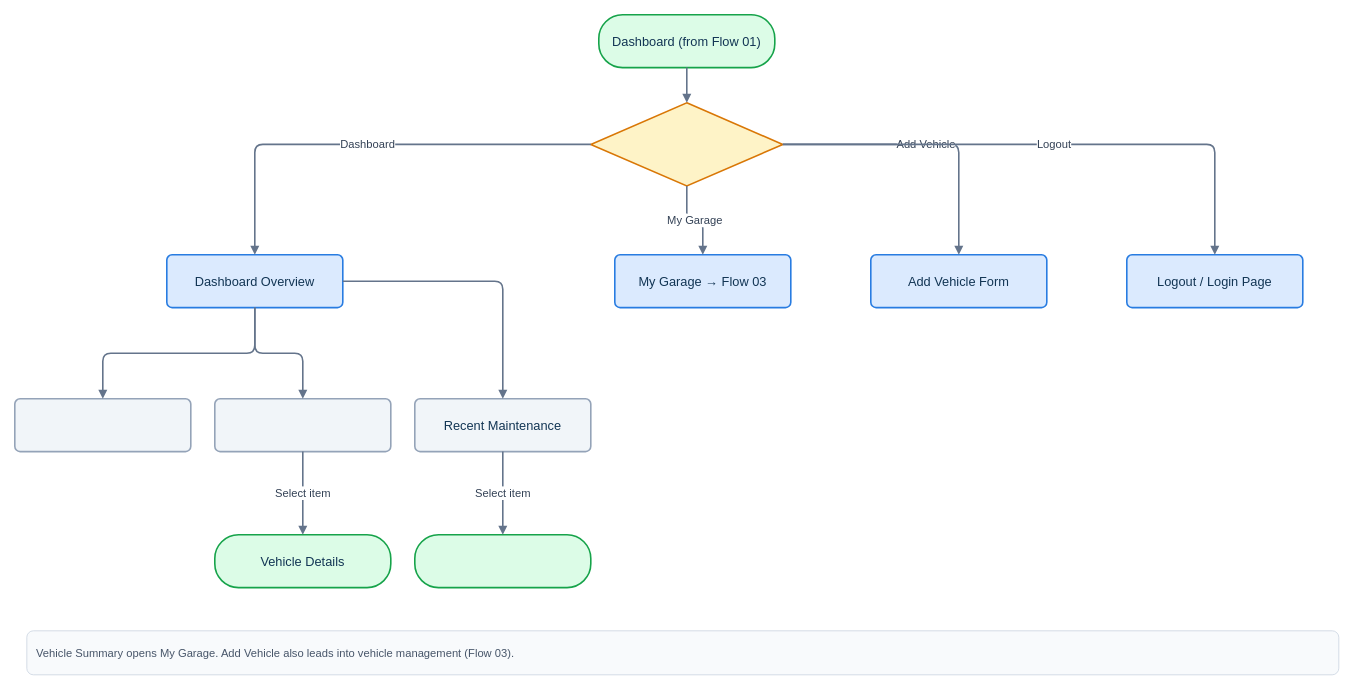
This 1353x689 diagram has some shape labels left out. The shapes that lost their labels are listed below. From the top down, each one's centre as x and y in pixels, then its label:
the point at 686,144: Select navigation
the point at 102,425: Vehicle Summary
the point at 302,425: Upcoming Maintenance
the point at 502,561: Service History → Flow 04
